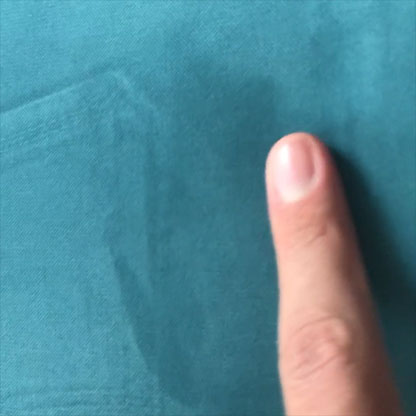fingertip: (247, 125, 363, 225)
